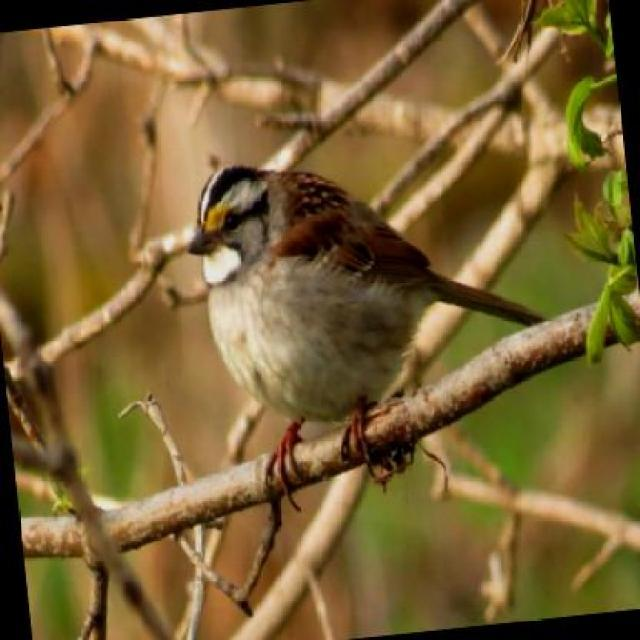Bird: (188, 155, 548, 539)
